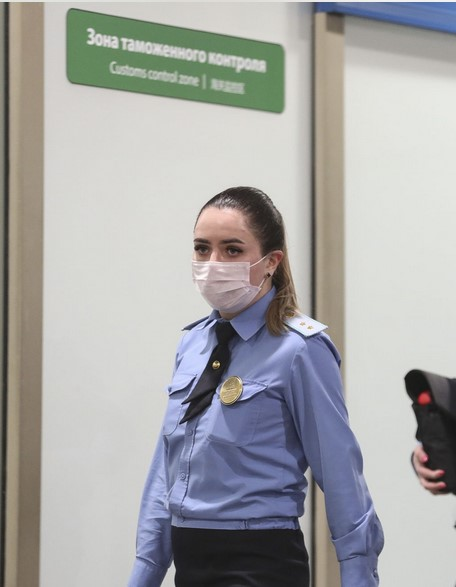face_with_mask: (193, 193, 285, 315)
